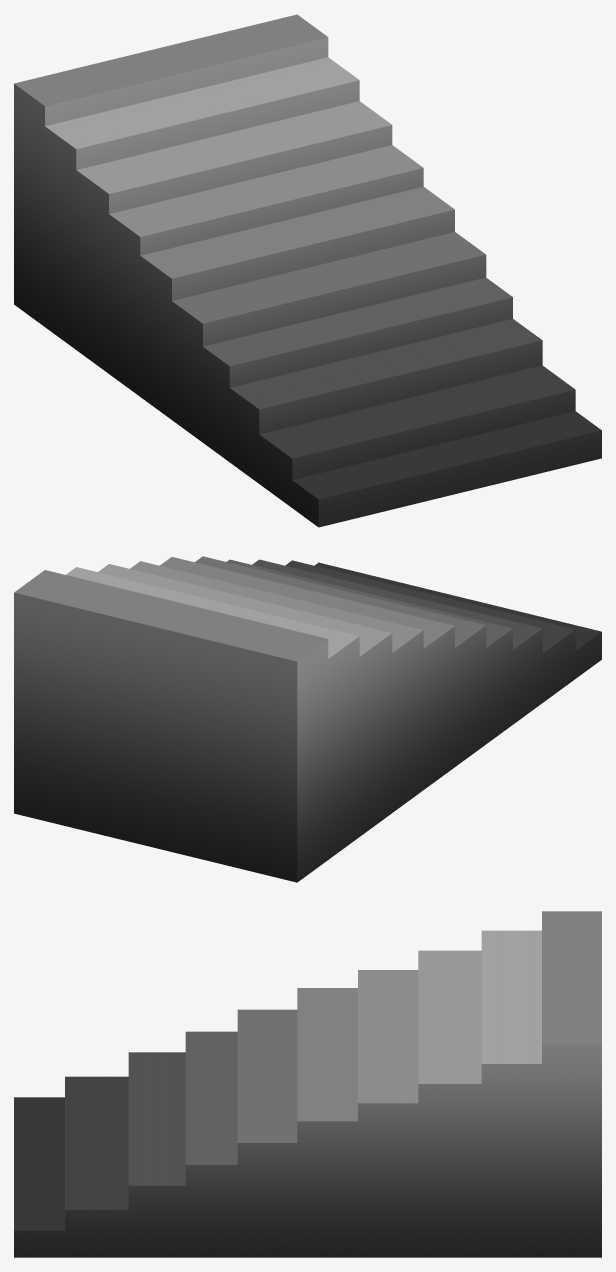
The model's file is Stairs.FBX.
The picture shows the model from 3 angles, top to bottom: view 1: azimuth 30°, elevation 25°; view 2: azimuth 150°, elevation 25°; view 3: azimuth 270°, elevation 25°; orthographic projection. The views are drawn at different scales.
Parts seen in each view (by area): view 1: Box001; view 2: Box001; view 3: Box001.
Part boxes in pixels (x1,y1,x2,y2): Box001: (14, 14, 601, 527); Box001: (14, 556, 601, 882); Box001: (14, 911, 601, 1257).
Size of the model in its own units: 93.25 by 69.5 by 174.
Materials: 1 (1 with a texture image).
